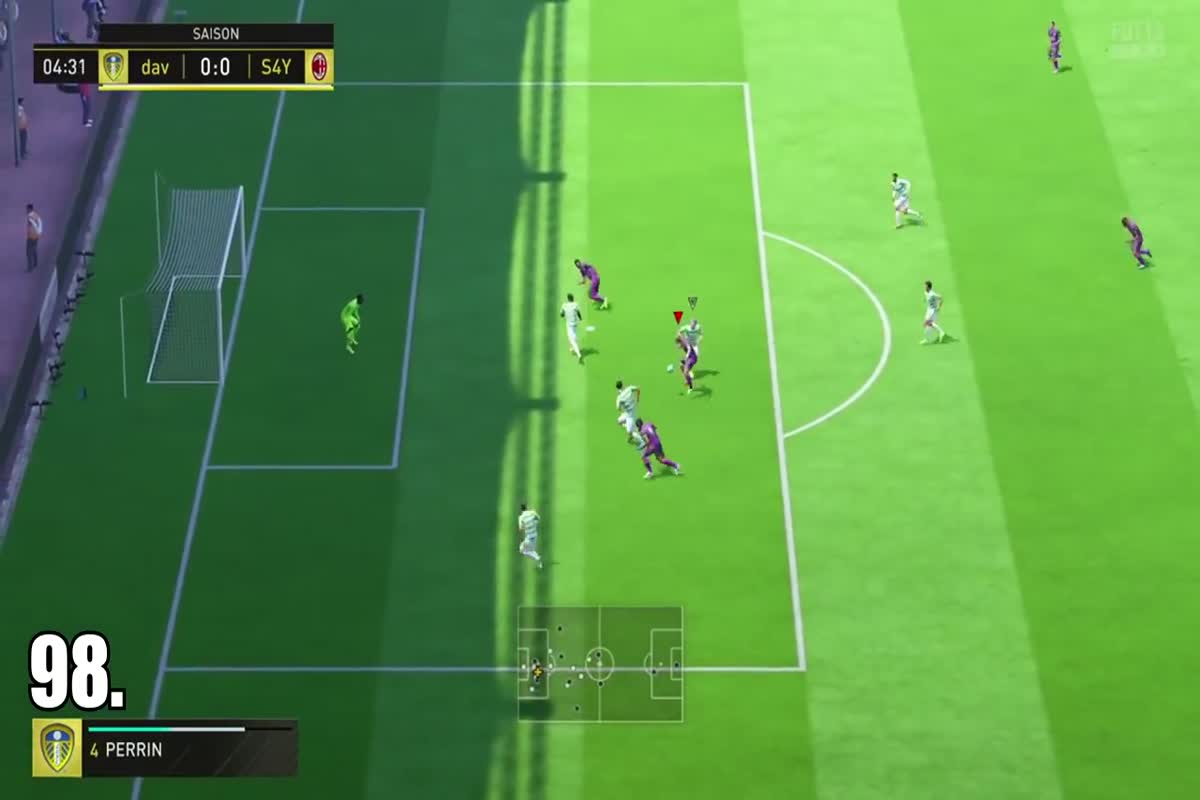ball: (661, 357, 678, 374)
